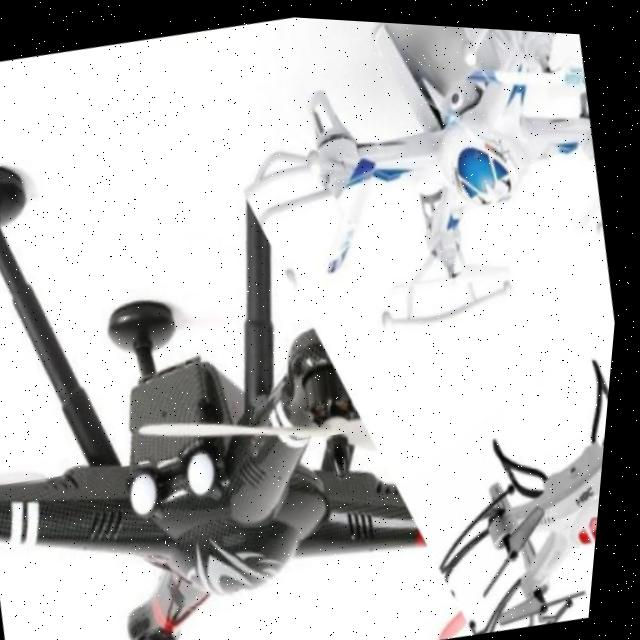drones: (0, 83, 502, 640), (225, 12, 637, 372), (419, 330, 618, 635)
